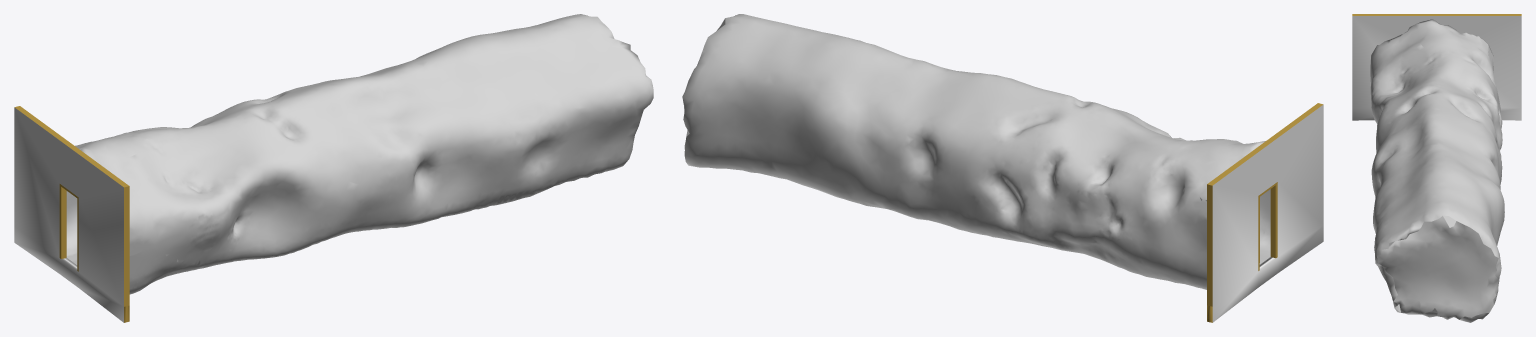
File: rockpassage.fbx
3 renders of one model, left to right at view 1: azimuth 30°, elevation 25°; view 2: azimuth 150°, elevation 25°; view 3: azimuth 270°, elevation 25°, orthographic. The views are drawn at different scales.
Visible parts, largest first — view 1: skirts.000, skirts.001; view 2: skirts.000, skirts.001; view 3: skirts.000, skirts.001.
Part boxes in pixels (x1,y1,x2,y2): skirts.000: (66, 14, 653, 294); skirts.001: (14, 106, 129, 322); skirts.000: (682, 14, 1270, 289); skirts.001: (1207, 103, 1323, 322); skirts.000: (1370, 19, 1504, 322); skirts.001: (1352, 14, 1521, 120).
Size of the model in its own units: 1602 by 395 by 556.
